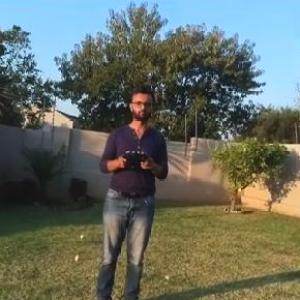follow: (92, 81, 175, 299)
